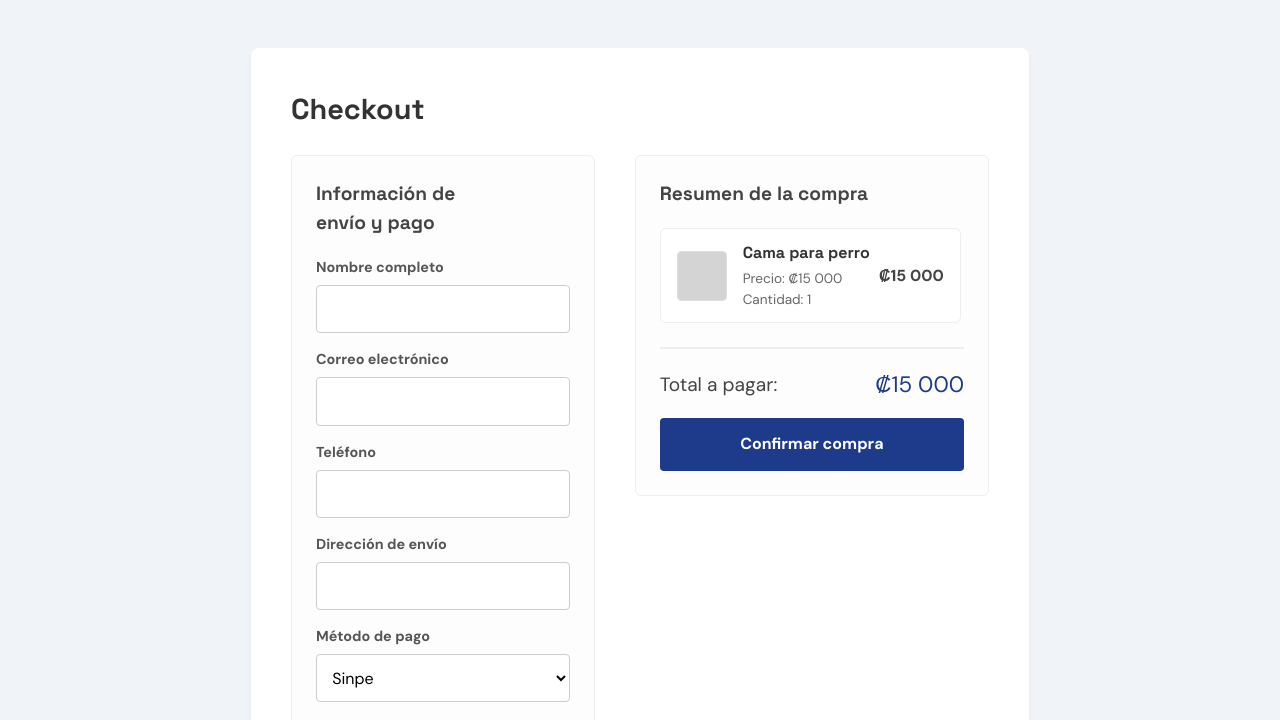
Checkout › shows an error and keeps the cart if the order fails
Type "Ana Pérez" into the field labelled "Nombre completo" at {"x": 443, "y": 309}, box 316,285 -> 570,333
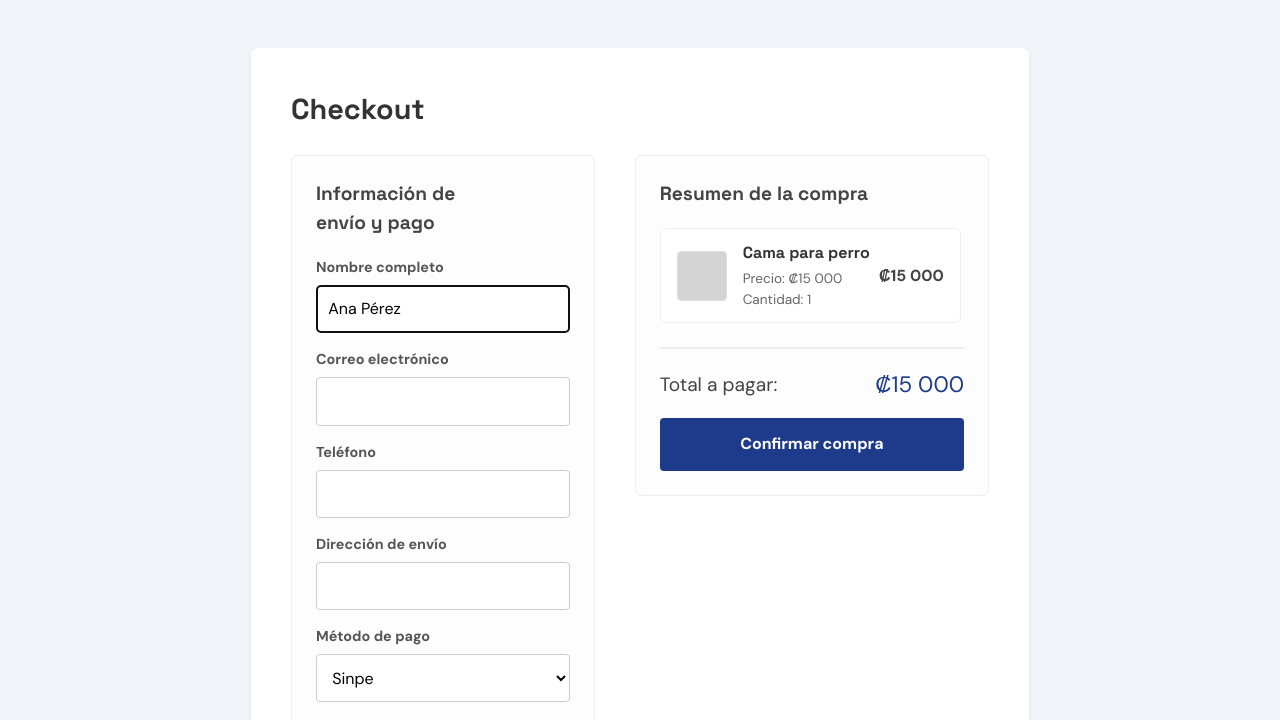
Type "ana@test.com" into the field labelled "Correo electrónico" at {"x": 443, "y": 402}, box 316,377 -> 570,426
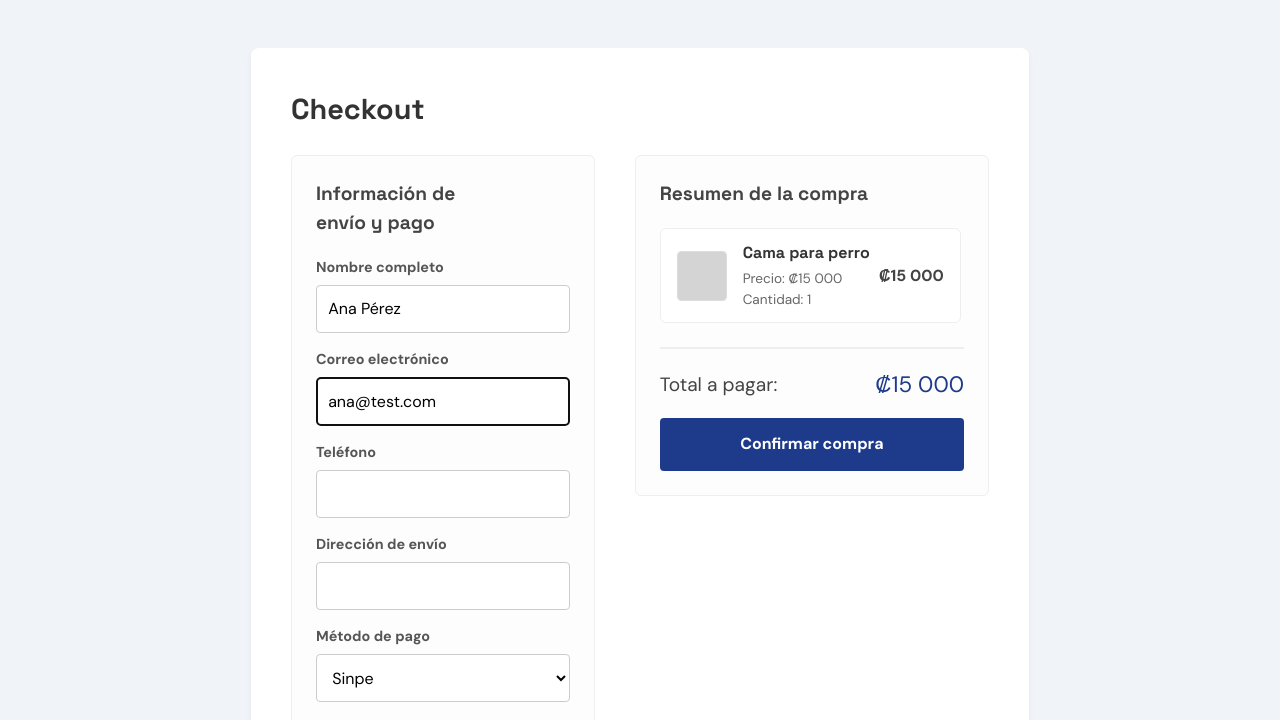
Type "88888888" into the field labelled "Teléfono" at {"x": 443, "y": 494}, box 316,470 -> 570,518
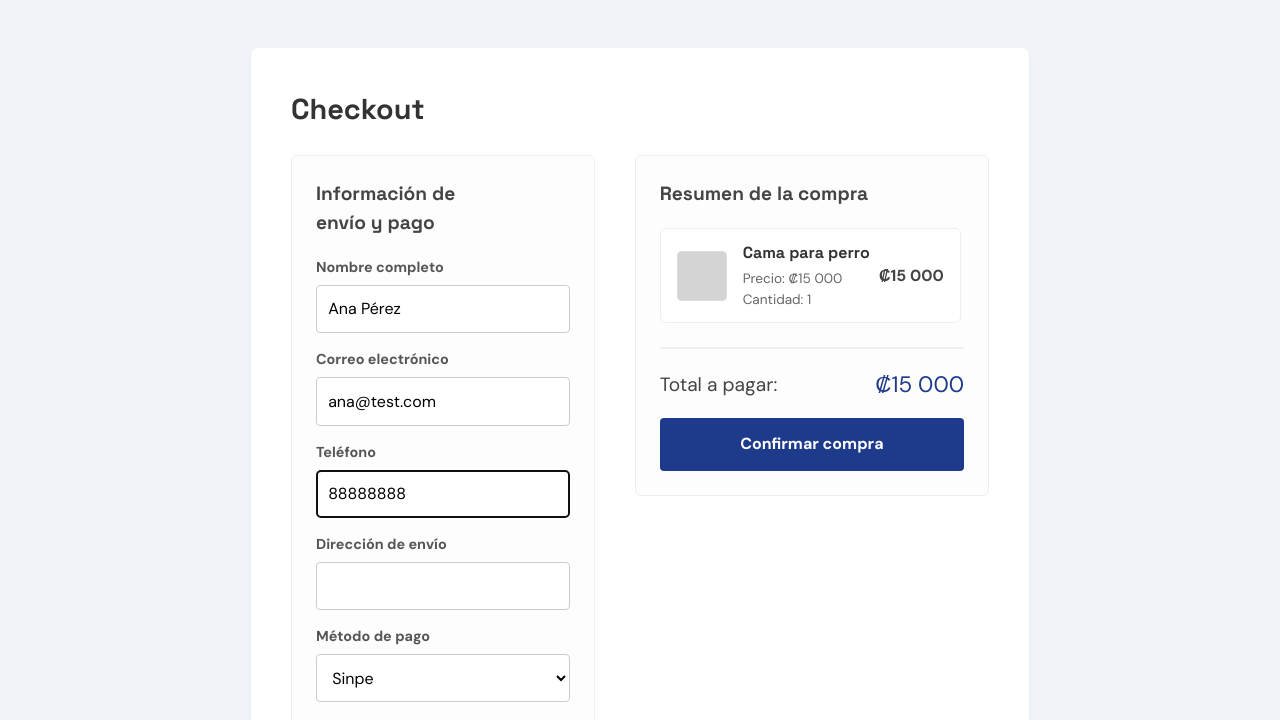
Type "San José, Costa Rica" into the field labelled "Dirección de envío" at {"x": 443, "y": 586}, box 316,562 -> 570,610
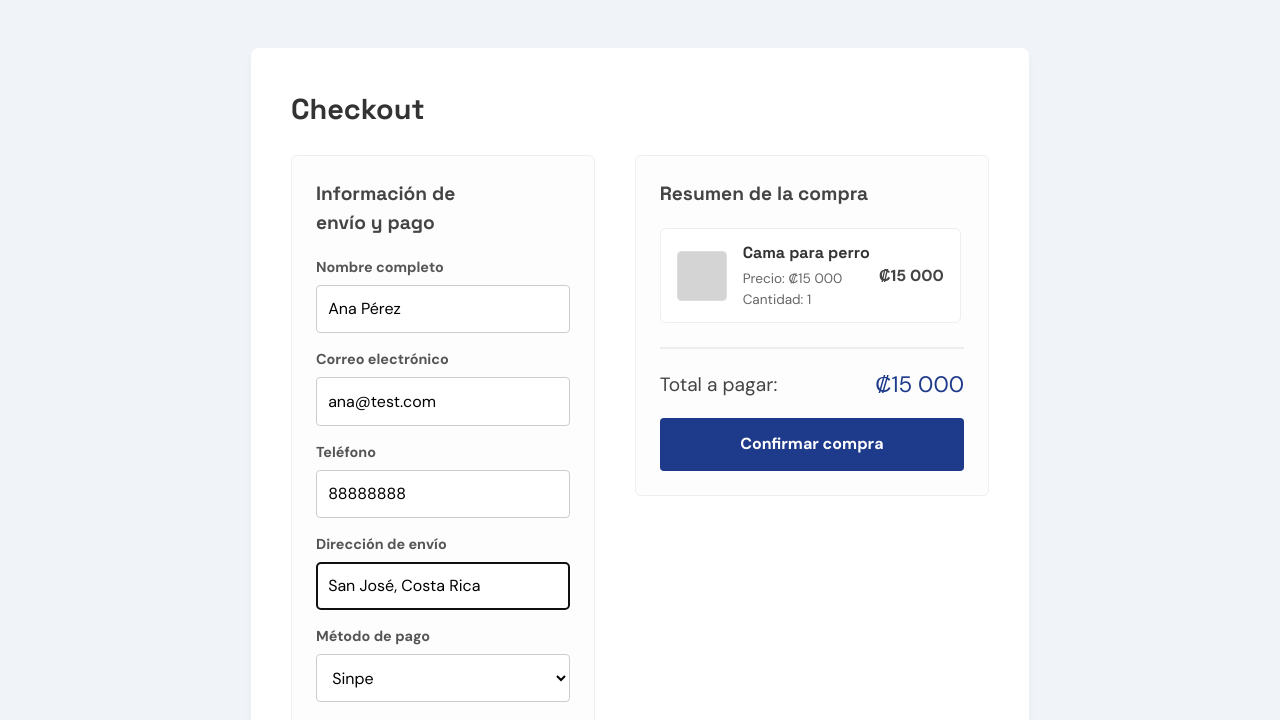
Click the button "Confirmar compra" at {"x": 812, "y": 444}, box 660,418 -> 964,471
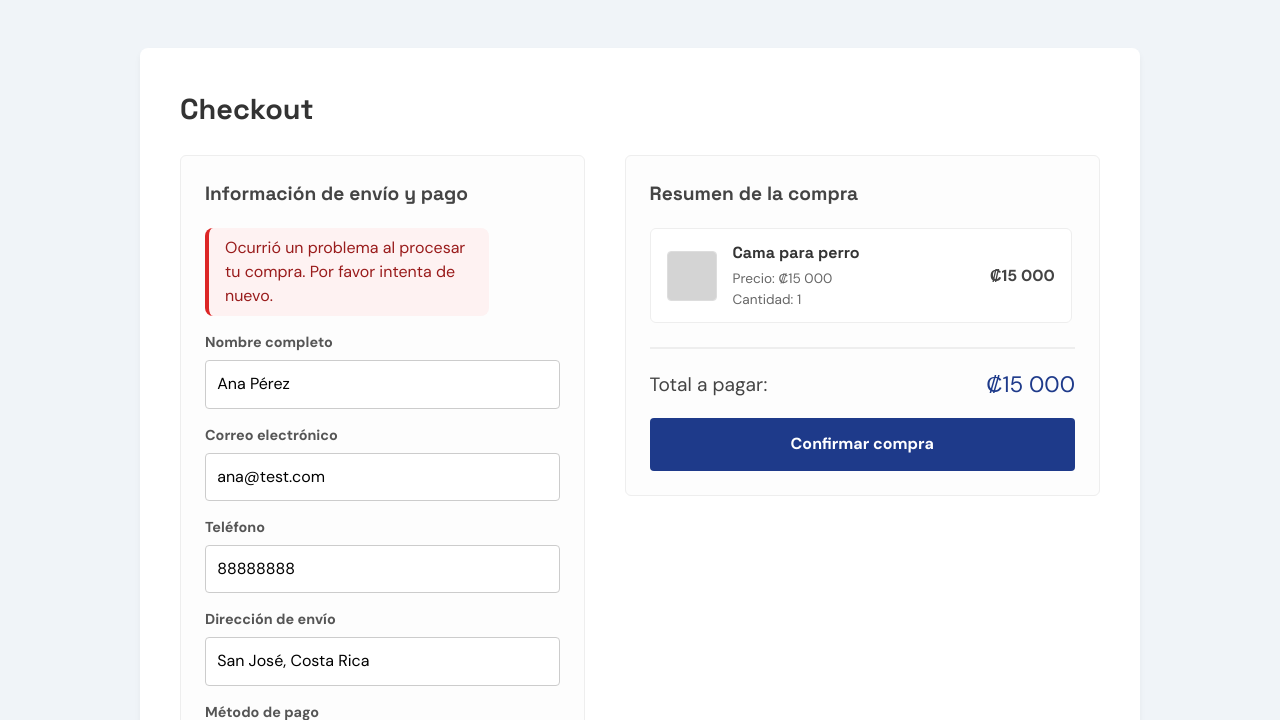
Now the text "Ocurrió un problema al procesar tu compra" is shown, box 225,237 -> 465,306
